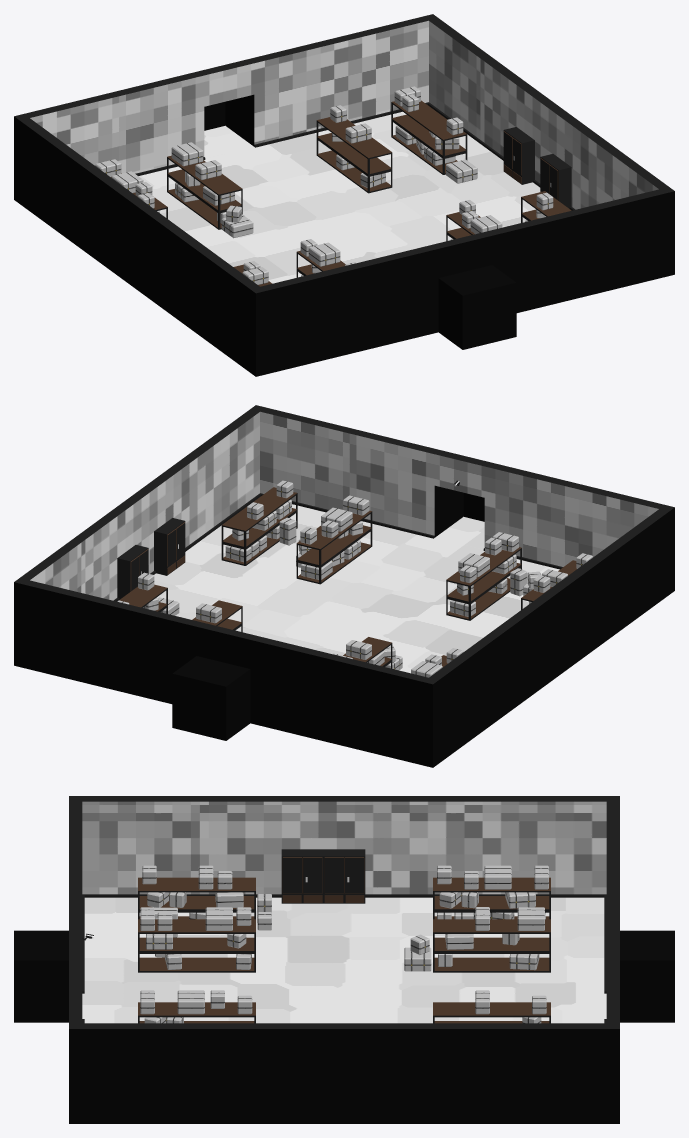
Rendered from Cargo_Room_1x1x2.fbx.
3 renders of one model, top to bottom at view 1: azimuth 30°, elevation 25°; view 2: azimuth 150°, elevation 25°; view 3: azimuth 270°, elevation 25°, orthographic. The views are drawn at different scales.
Parts seen in each view (by area): view 1: Room_1x1x2.004; view 2: Room_1x1x2.004; view 3: Room_1x1x2.004.
Boxes of the visible parts, left/top/right/bottom form: Room_1x1x2.004: left=14, top=14, right=674, bottom=376; Room_1x1x2.004: left=14, top=405, right=674, bottom=767; Room_1x1x2.004: left=14, top=796, right=674, bottom=1123.
Size of the model in its own units: 42 by 50.4 by 8.
